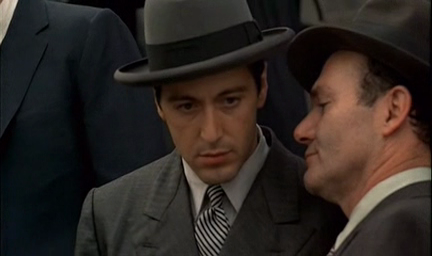cu: (1, 1, 432, 256)
face: (162, 68, 258, 184), (293, 61, 358, 195)
person: (74, 1, 349, 256), (1, 1, 176, 256), (293, 1, 432, 256)
